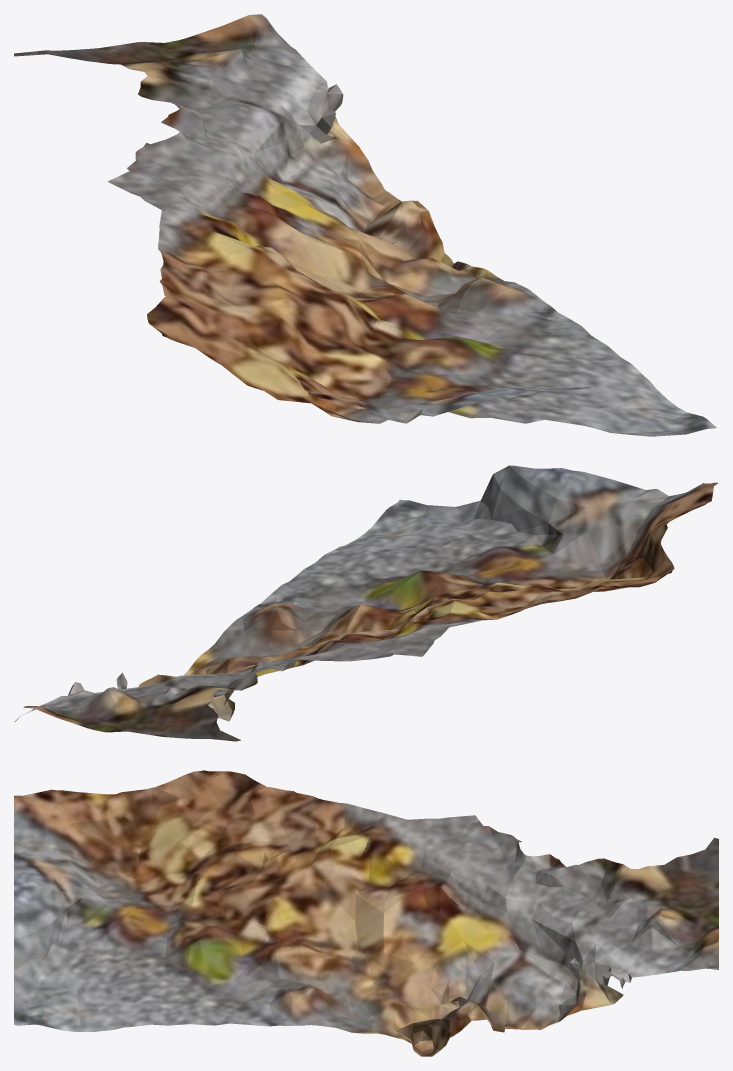
3 renders of one model, top to bottom at view 1: azimuth 30°, elevation 25°; view 2: azimuth 150°, elevation 25°; view 3: azimuth 270°, elevation 25°, orthographic. The views are drawn at different scales.
Bounding box in the file's own units: 0.4712 × 0.17 × 0.8374.
1 material, 1 textured.
